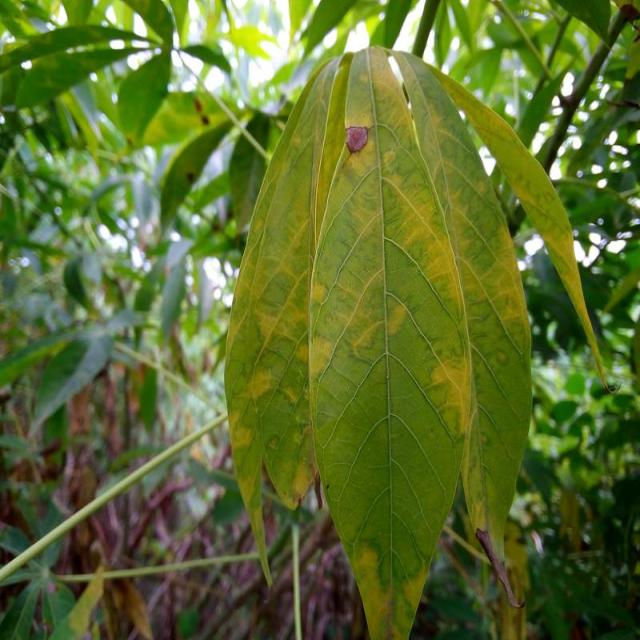cassava leaf: (222, 44, 536, 637)
